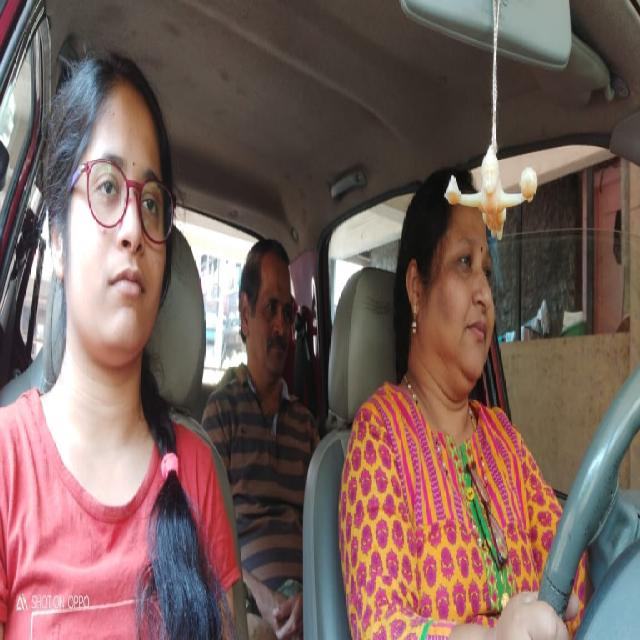person: (53, 72, 168, 367), (406, 183, 496, 390), (238, 244, 296, 384)
